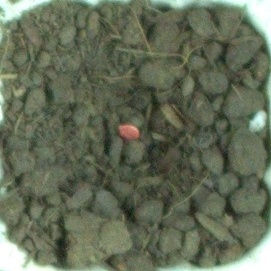pepper seed: (45, 52, 187, 194)
